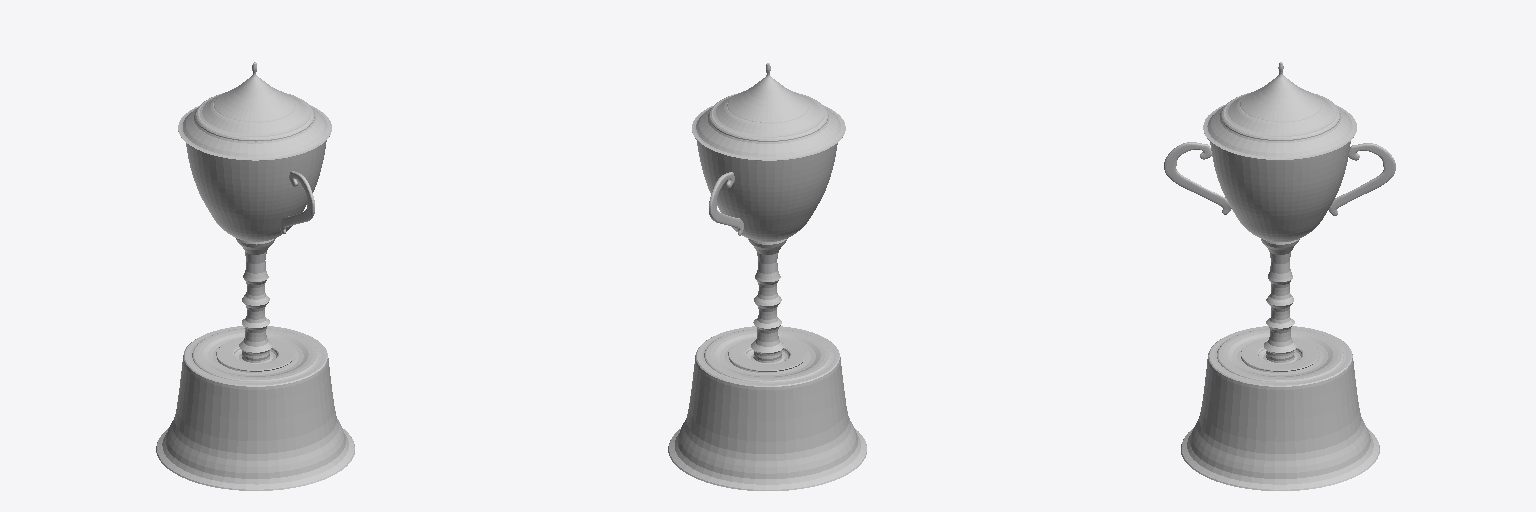
Rendered from trophy.obj.
3 views of the same model, side by side, from view 1: azimuth 30°, elevation 25°; view 2: azimuth 150°, elevation 25°; view 3: azimuth 270°, elevation 25° (orthographic).
Parts seen in each view (by area): view 1: Sphere.001_Sphere.003, Sphere.002_Sphere.004; view 2: Sphere.001_Sphere.003, Sphere.002_Sphere.004; view 3: Sphere.001_Sphere.003, Sphere.002_Sphere.004.
Boxes of the visible parts, <box> form: Sphere.001_Sphere.003: <box>156,141,354,490</box>; Sphere.002_Sphere.004: <box>178,62,331,160</box>; Sphere.001_Sphere.003: <box>668,141,866,490</box>; Sphere.002_Sphere.004: <box>692,63,845,160</box>; Sphere.001_Sphere.003: <box>1164,141,1395,490</box>; Sphere.002_Sphere.004: <box>1203,62,1356,159</box>.
Size of the model in its own units: 0.3876 by 0.83 by 0.4511.